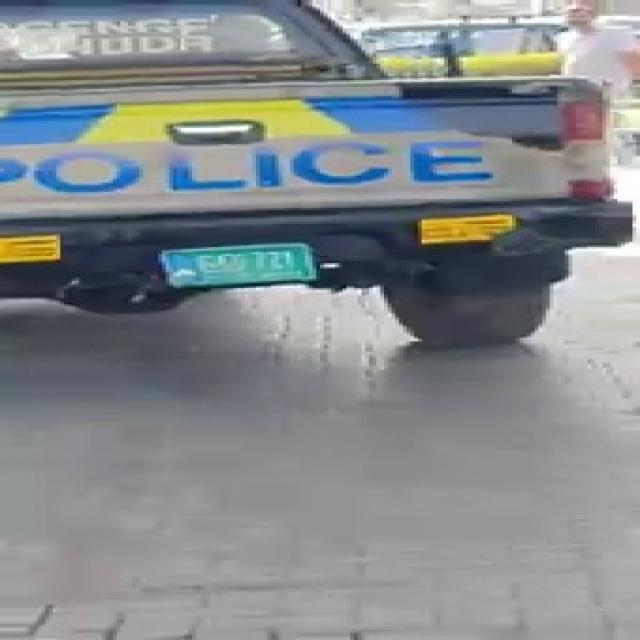police: (7, 0, 640, 355)
